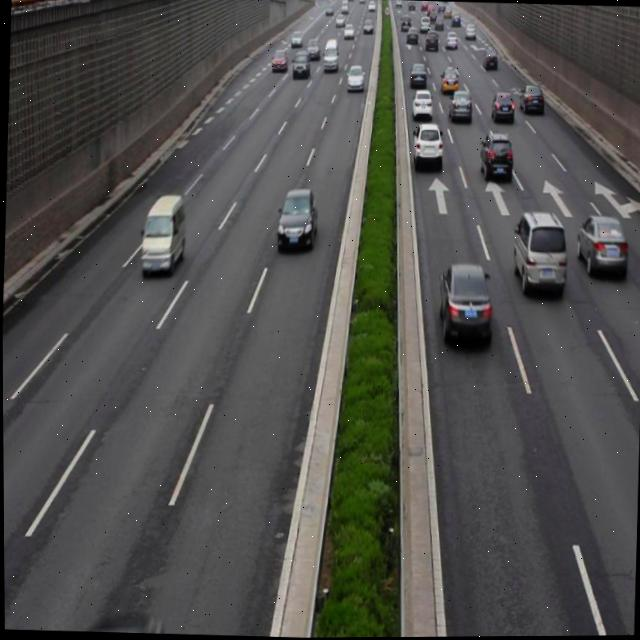car: (510, 210, 566, 296), (436, 260, 491, 346), (572, 212, 627, 279), (274, 186, 317, 254), (477, 131, 512, 184), (410, 121, 443, 171), (448, 87, 472, 124), (517, 81, 543, 115), (490, 90, 514, 125), (410, 87, 432, 120)
truck: (138, 190, 188, 281)
